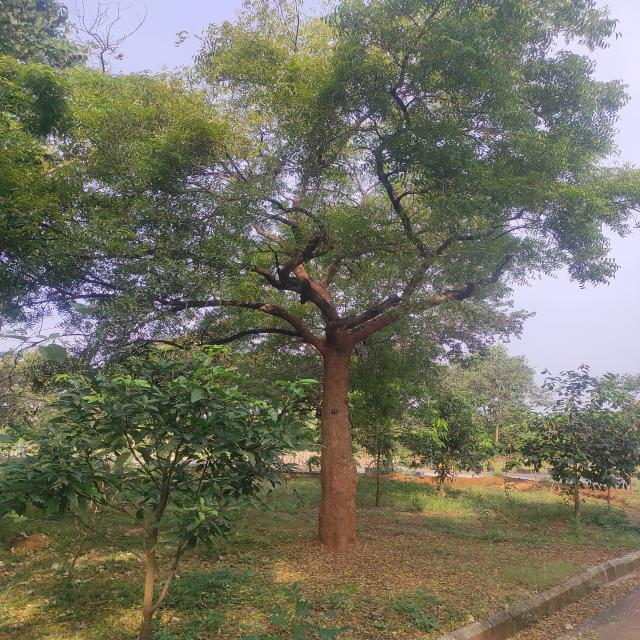Neem Tree: (39, 12, 591, 334)
